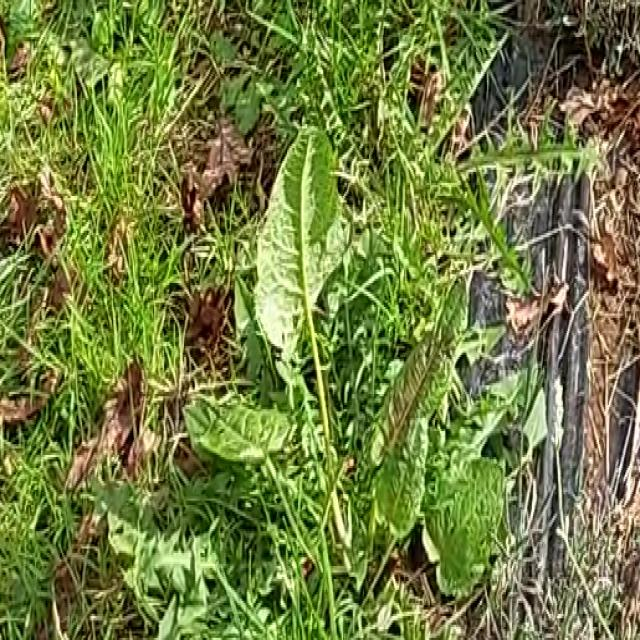organic waste: (173, 137, 527, 597)
